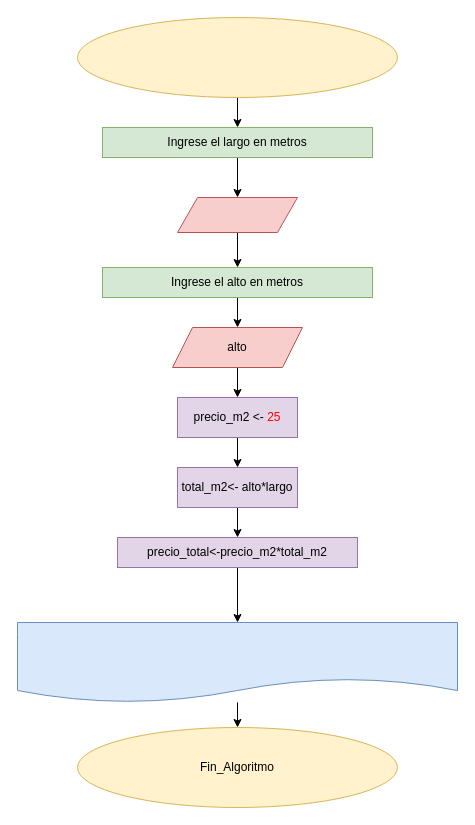
Some shapes in this 475 by 825 pixel diagram are drawn without their labels. Each missing label, with the centre of its shape:
"El precio total de ", total_m2, " m2 es de ", precio_total: pixel 237 662
Inicio_Algoritmo: pixel 237 57
largo: pixel 237 214
